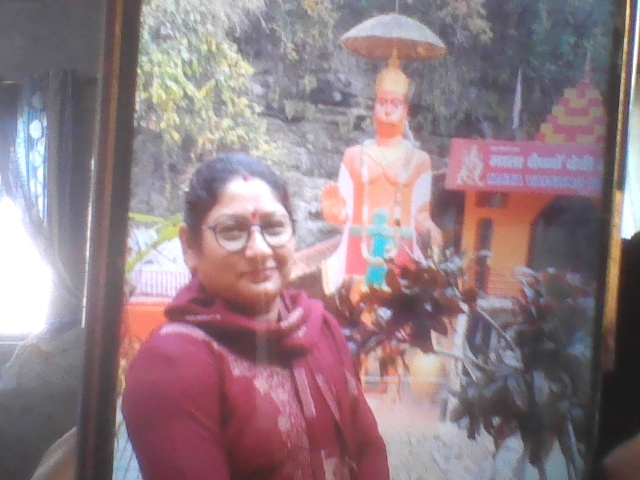fake: (181, 137, 313, 324)
